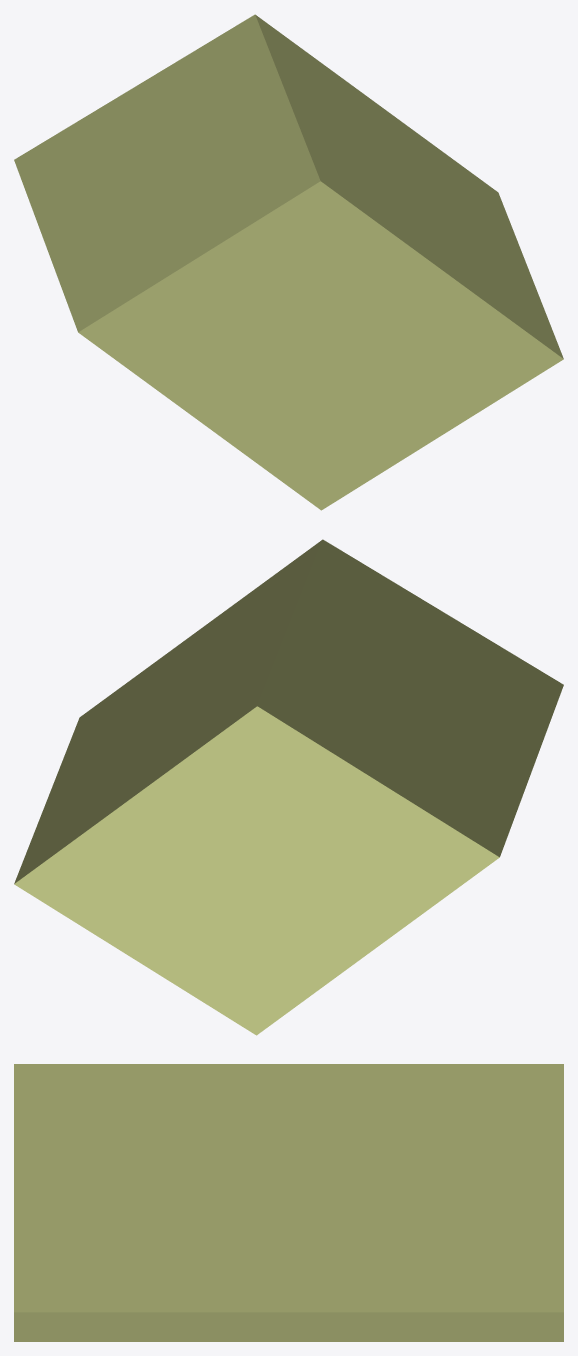
3 views of the same model, one above another, from view 1: azimuth 30°, elevation 25°; view 2: azimuth 150°, elevation 25°; view 3: azimuth 270°, elevation 25° (orthographic). The views are drawn at different scales.
Visible parts, largest first — view 1: 0_0_1_2_0_0_3_0_3_2; view 2: 0_0_1_2_0_0_3_0_3_2; view 3: 0_0_1_2_0_0_3_0_3_2.
Part boxes in pixels (x1=…): 0_0_1_2_0_0_3_0_3_2: x1=14, y1=14, x2=563, y2=510; 0_0_1_2_0_0_3_0_3_2: x1=14, y1=539, x2=563, y2=1035; 0_0_1_2_0_0_3_0_3_2: x1=14, y1=1064, x2=563, y2=1341.
Size of the model in its own units: 6.55 by 5.61 by 9.
